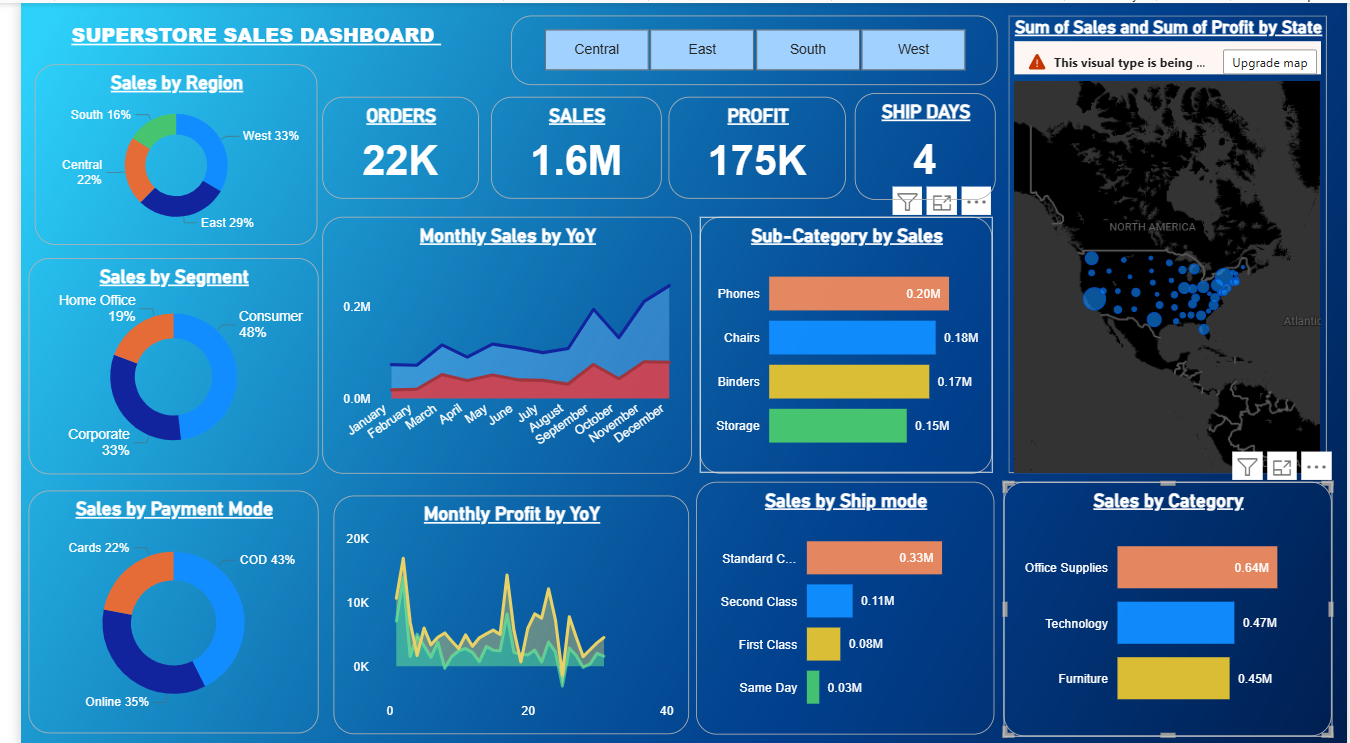

The dashboard page shown, as its layout file describes it:
{"tool":"powerbi","page":{"name":"Page 1","canvas":[1280,720],"ordinal":0},"visuals":[{"type":"clusteredBarChart","title":"Sales by Category","fields":{"Category":["SuperStore_Sales_Dataset.Category"],"Y":["Sum(SuperStore_Sales_Dataset.Sales)"]},"box":[948.2,462.4,317,245.6],"z":0},{"type":"clusteredBarChart","title":"Sub-Category by Sales ","fields":{"Category":["SuperStore_Sales_Dataset.Sub-Category"],"Y":["Sum(SuperStore_Sales_Dataset.Sales)"]},"box":[654.5,205.8,282.7,248.4],"z":1000},{"type":"clusteredBarChart","title":"Sales by Ship mode ","fields":{"Category":["SuperStore_Sales_Dataset.Ship Mode"],"Y":["Sum(SuperStore_Sales_Dataset.Sales)"]},"box":[651.8,462.4,288.2,244.3],"z":2000},{"type":"stackedAreaChart","title":"Monthly Sales by YoY","fields":{"Y":["Sum(SuperStore_Sales_Dataset.Sales)"],"Category":["SuperStore_Sales_Dataset.Order Date.Variation.Date Hierarchy.Month","SuperStore_Sales_Dataset.Order Date.Variation.Date Hierarchy.Day"],"Series":["SuperStore_Sales_Dataset.Order Date.Variation.Date Hierarchy.Year"]},"box":[290.9,205.8,356.8,248.4],"z":3000},{"type":"stackedAreaChart","title":"Monthly Profit by YoY","fields":{"Category":["SuperStore_Sales_Dataset.Order Date.Variation.Date Hierarchy.Month","SuperStore_Sales_Dataset.Order Date.Variation.Date Hierarchy.Day"],"Series":["SuperStore_Sales_Dataset.Order Date.Variation.Date Hierarchy.Year"],"Y":["Sum(SuperStore_Sales_Dataset.Profit)"]},"box":[301.9,474.8,343.1,230.5],"z":4000},{"type":"map","fields":{"Category":["SuperStore_Sales_Dataset.State"],"Size":["Sum(SuperStore_Sales_Dataset.Sales)"]},"box":[953.7,12.3,307.4,441.9],"z":5000},{"type":"donutChart","title":" Sales by Segment","fields":{"Category":["SuperStore_Sales_Dataset.Segment"],"Y":["Sum(SuperStore_Sales_Dataset.Sales)"]},"box":[6.9,245.6,279.9,208.6],"z":6000},{"type":"donutChart","title":" Sales by Region","fields":{"Category":["SuperStore_Sales_Dataset.Region"],"Y":["Sum(SuperStore_Sales_Dataset.Sales)"]},"box":[13.7,59,273.1,174.3],"z":7000},{"type":"slicer","fields":{"Values":["SuperStore_Sales_Dataset.Region"]},"box":[473.4,12.3,469.3,67.2],"z":8000},{"type":"textbox","box":[0,12.3,454.2,46.7],"z":9000},{"type":"card","title":"SALES","fields":{"Values":["Sum(SuperStore_Sales_Dataset.Sales)"]},"box":[454.2,90.6,164.7,98.8],"z":10000},{"type":"card","title":"ORDERS","fields":{"Values":["Sum(SuperStore_Sales_Dataset.Quantity)"]},"box":[290.9,90.6,150.9,98.8],"z":11000},{"type":"card","title":"PROFIT","fields":{"Values":["Sum(SuperStore_Sales_Dataset.Profit)"]},"box":[624.4,90.6,171.5,98.8],"z":12000},{"type":"card","title":"SHIP DAYS","fields":{"Values":["Avg(SuperStore_Sales_Dataset.Avg delivery)"]},"box":[804.1,86.4,135.8,102.9],"z":13000},{"type":"donutChart","title":" Sales by Payment Mode","fields":{"Category":["SuperStore_Sales_Dataset.Payment Mode"],"Y":["Sum(SuperStore_Sales_Dataset.Sales)"]},"box":[6.9,470.7,279.9,234.6],"z":13001}]}

Visuals, with their boxes in screenshot pixels (x1, y1, x2, y2), scaled from the page's 1280x720 canvas onto the 1350x743 screenshot:
"Sales by Category" clusteredBarChart: <region>1000, 477, 1334, 731</region>
"Sub-Category by Sales " clusteredBarChart: <region>690, 212, 988, 469</region>
"Sales by Ship mode " clusteredBarChart: <region>687, 477, 991, 729</region>
"Monthly Sales by YoY" stackedAreaChart: <region>307, 212, 683, 469</region>
"Monthly Profit by YoY" stackedAreaChart: <region>318, 490, 680, 728</region>
map - SuperStore_Sales_Dataset.State x Sum(SuperStore_Sales_Dataset.Sales): <region>1006, 13, 1330, 469</region>
" Sales by Segment" donutChart: <region>7, 253, 302, 469</region>
" Sales by Region" donutChart: <region>14, 61, 302, 241</region>
slicer - SuperStore_Sales_Dataset.Region: <region>499, 13, 994, 82</region>
textbox: <region>0, 13, 479, 61</region>
"SALES" card: <region>479, 93, 653, 195</region>
"ORDERS" card: <region>307, 93, 466, 195</region>
"PROFIT" card: <region>659, 93, 839, 195</region>
"SHIP DAYS" card: <region>848, 89, 991, 195</region>
" Sales by Payment Mode" donutChart: <region>7, 486, 302, 728</region>
